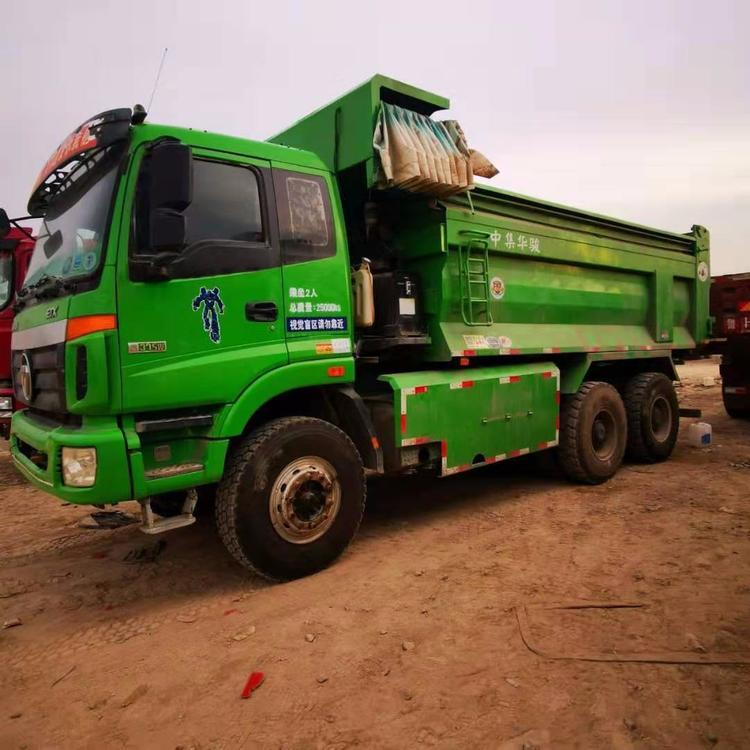truck: (9, 71, 711, 586)
